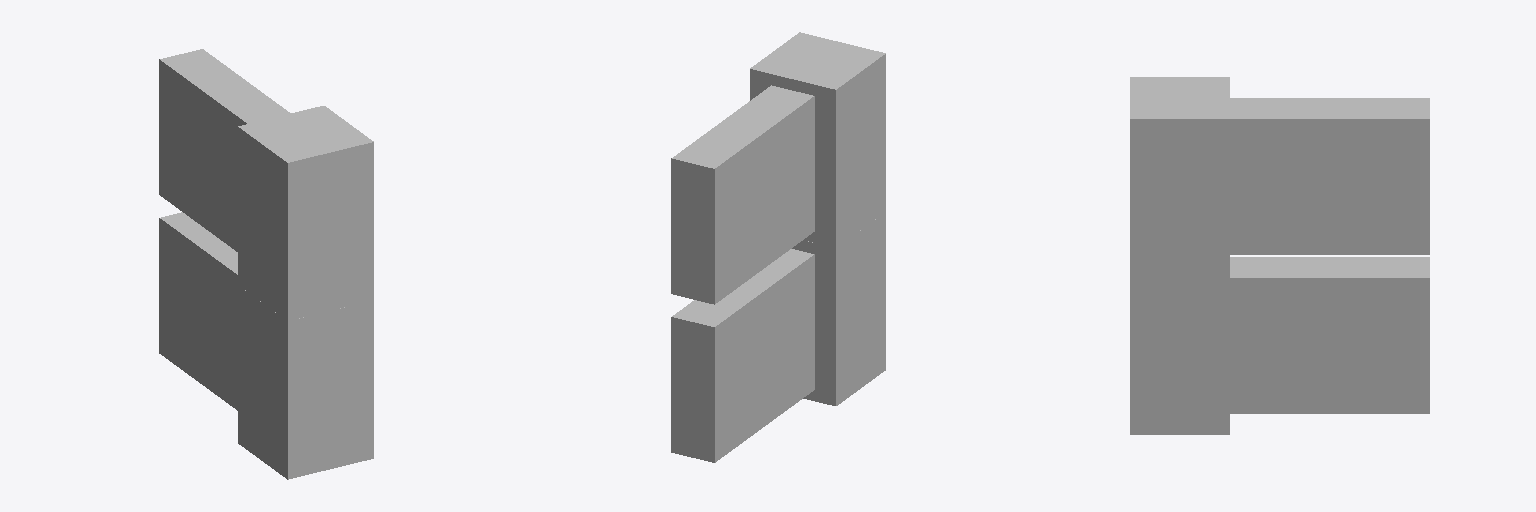
The model's file is muroPiedra.obj.
3 views of the same model, side by side, from view 1: azimuth 30°, elevation 25°; view 2: azimuth 150°, elevation 25°; view 3: azimuth 270°, elevation 25° (orthographic).
Visible parts, largest first — view 1: Cube.001; view 2: Cube.001; view 3: Cube.001.
Boxes of the visible parts, <box> form: Cube.001: <box>159,49,373,479</box>; Cube.001: <box>671,32,885,462</box>; Cube.001: <box>1130,77,1429,434</box>.
Size of the model in its own units: 2 by 7 by 6.